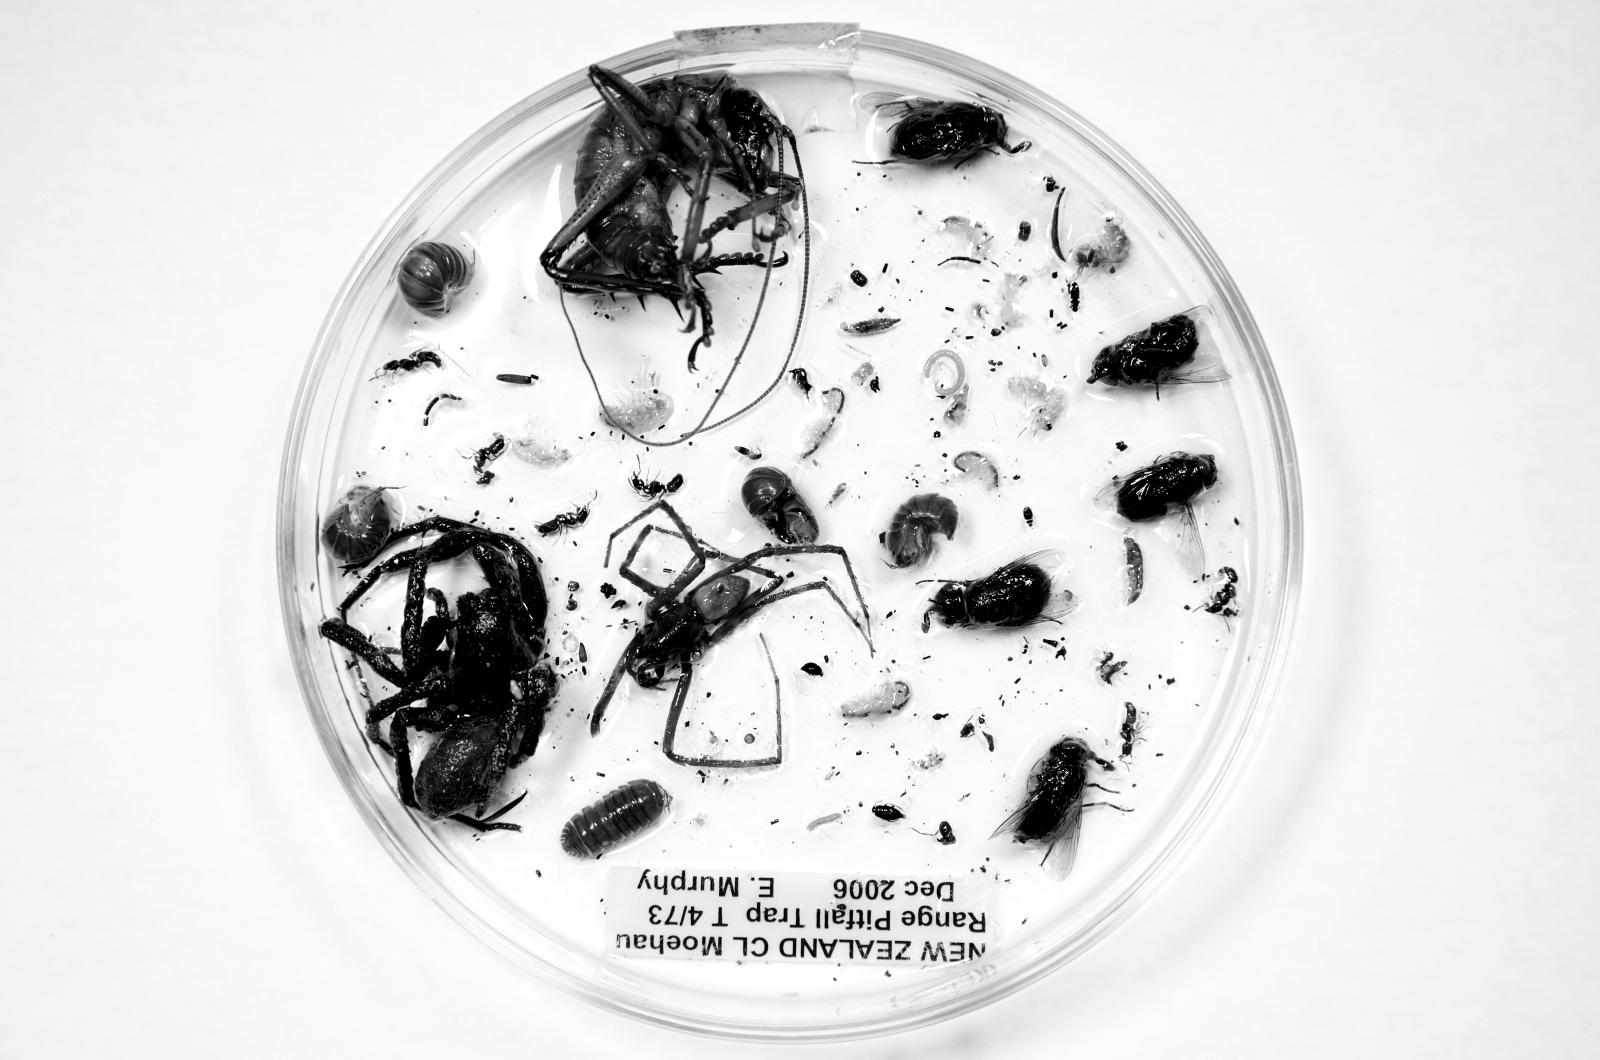amphipoda: (600, 358, 676, 438), (795, 386, 846, 459), (1073, 215, 1132, 273), (837, 677, 911, 719), (951, 451, 1002, 492), (511, 435, 570, 470)
araneae: (590, 500, 875, 768), (319, 517, 557, 819)
coleoptera: (872, 803, 905, 822), (799, 661, 822, 677), (1069, 282, 1080, 311), (1022, 506, 1035, 528)
diplopoda: (924, 348, 965, 399)
diptera: (992, 737, 1115, 881), (1095, 451, 1218, 580), (1087, 308, 1230, 399), (922, 549, 1078, 631), (866, 97, 1031, 164), (734, 439, 762, 460), (1089, 647, 1114, 670)
formicidae: (376, 348, 443, 377), (1200, 567, 1238, 616), (472, 432, 507, 483), (535, 505, 590, 536), (629, 472, 684, 500), (1119, 702, 1145, 760)
isopoda: (561, 780, 673, 859), (322, 484, 400, 569), (741, 468, 818, 544), (397, 241, 474, 317), (880, 493, 958, 568), (1123, 536, 1144, 605)
orthoptera: (540, 65, 804, 371)
